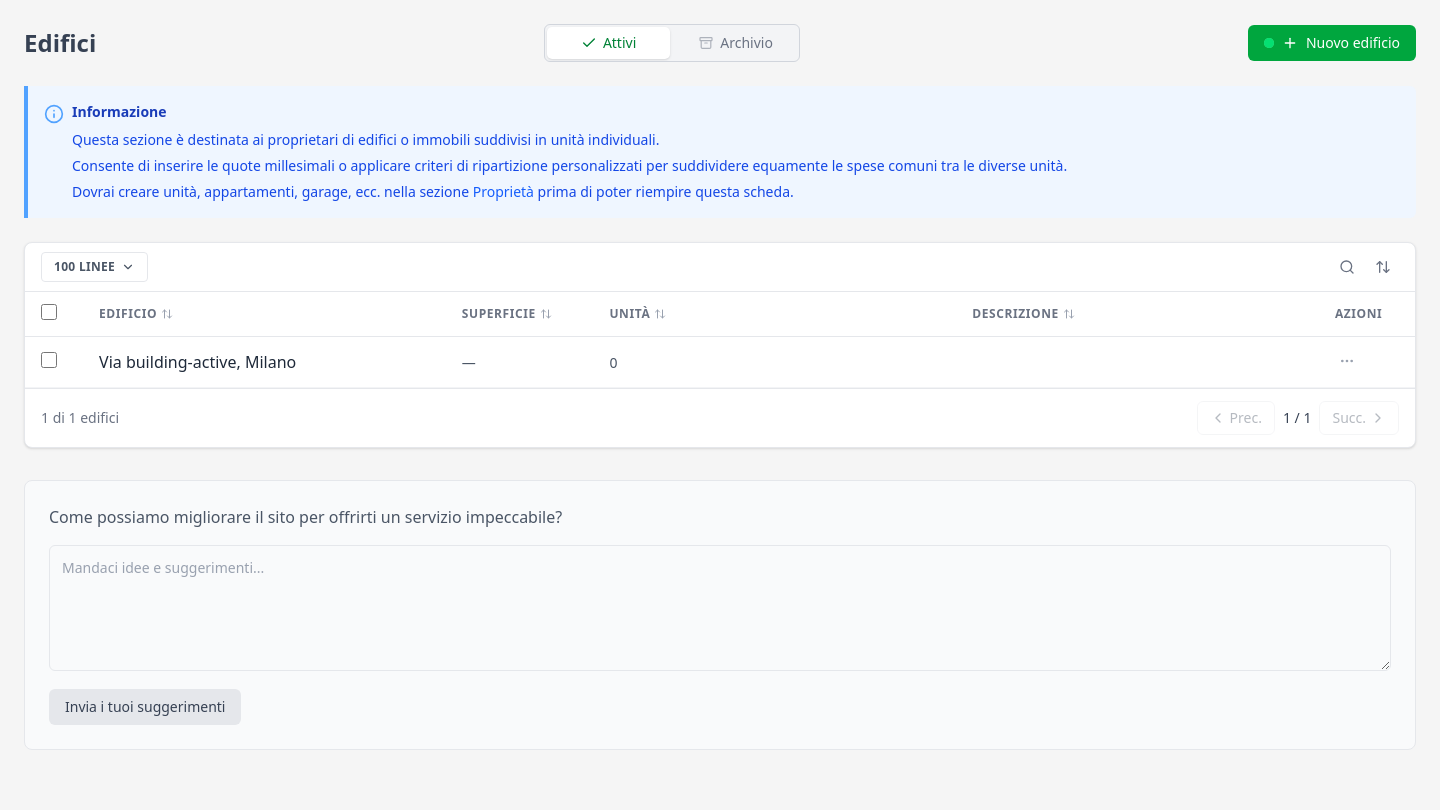
Scenario: A5.2 building lifecycle actions › A5.2-01 cancels and then confirms row archive through the real subscription
The image size is (1440, 810).
Step 1. Click the button named "Azioni edificio Via building-active, Milano" → [1347, 361], box [1335,349,1359,373]
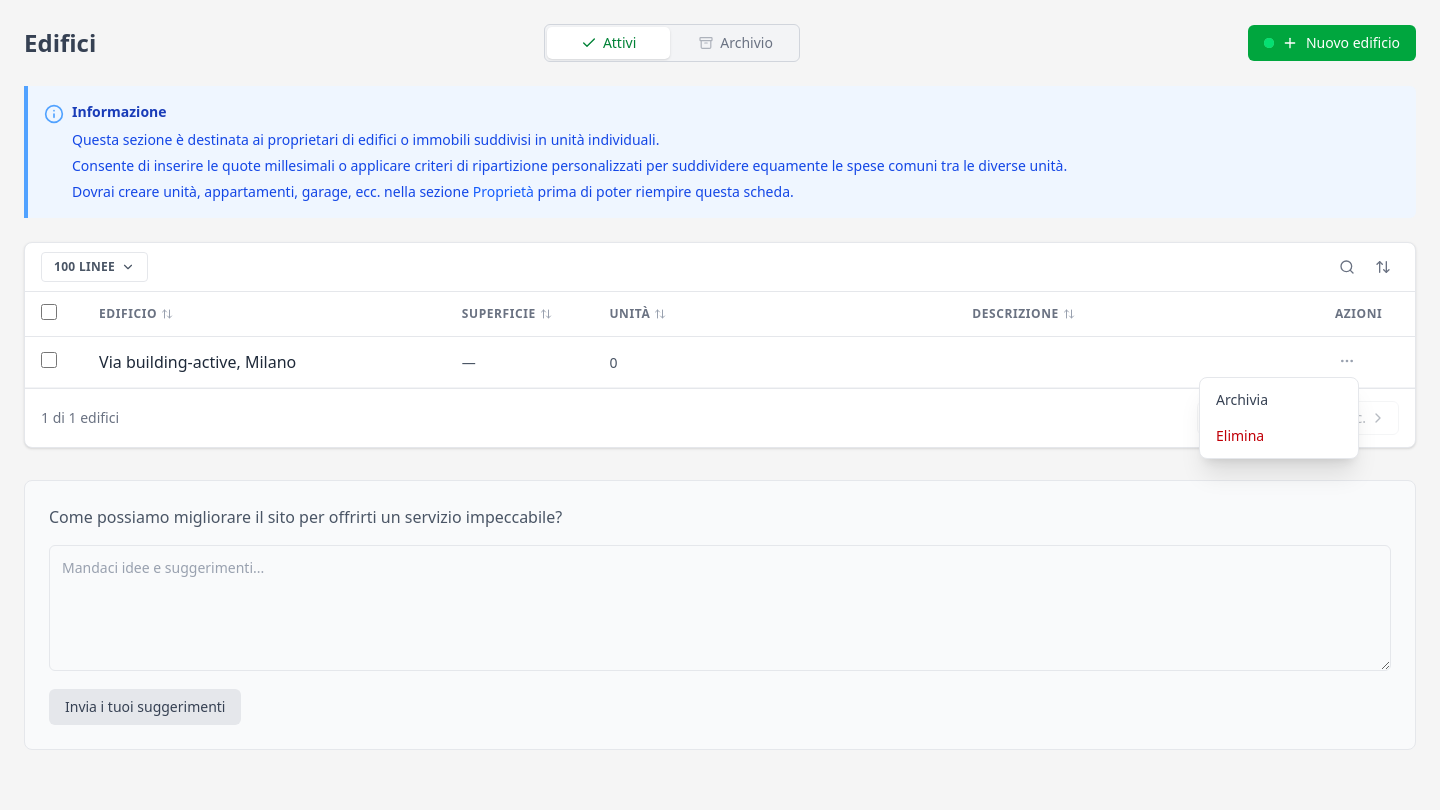
Check: the menu item "Archivia" is shown
Check: the menu item "Elimina" is shown, box [1200,418,1358,454]
Step 2. Click the menu item "Archivia" → [1279, 400], box [1200,382,1358,418]
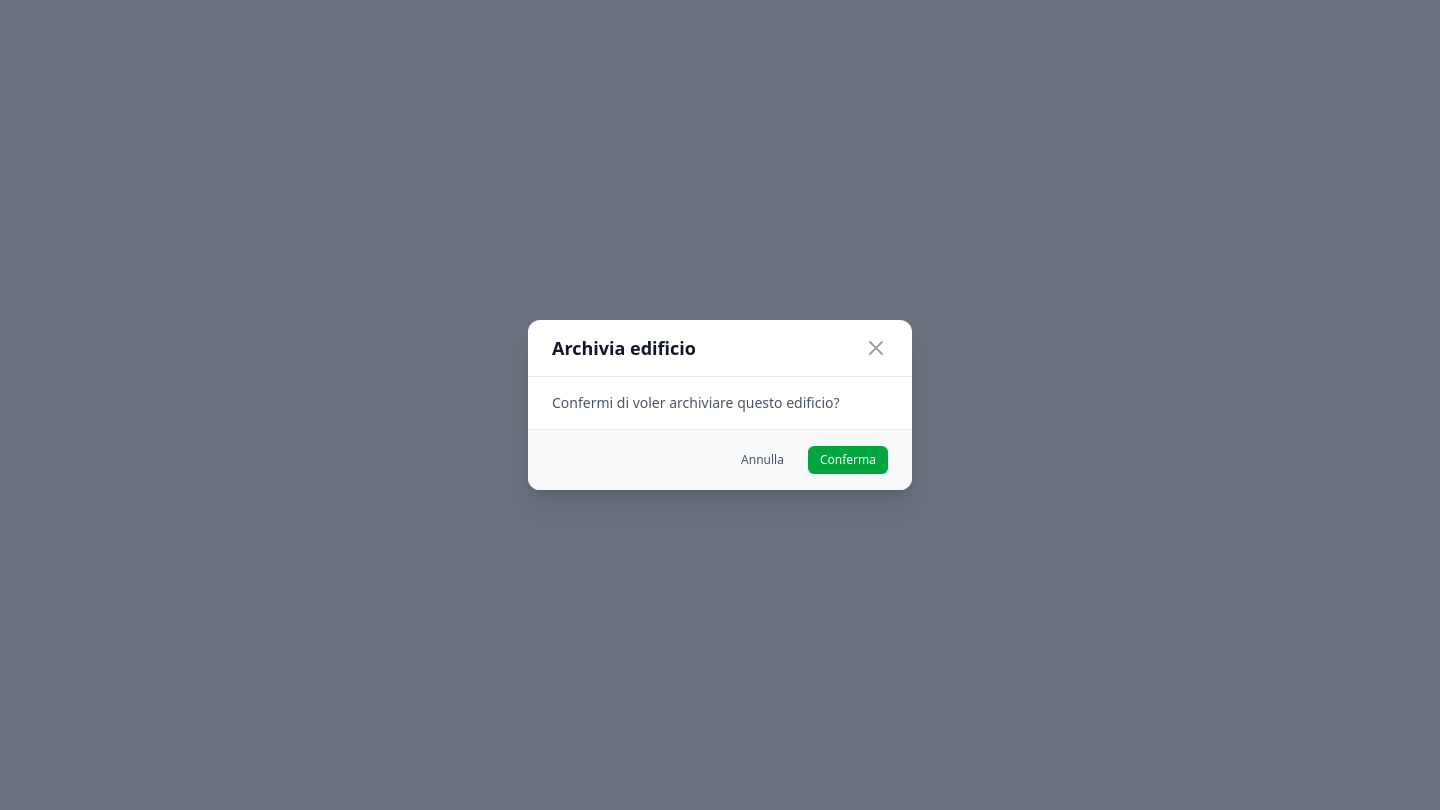
Check: the heading "Archivia edificio" is shown, box [552,336,696,360]
Step 3. Click the button "Annulla" → [762, 460], box [729,446,796,474]
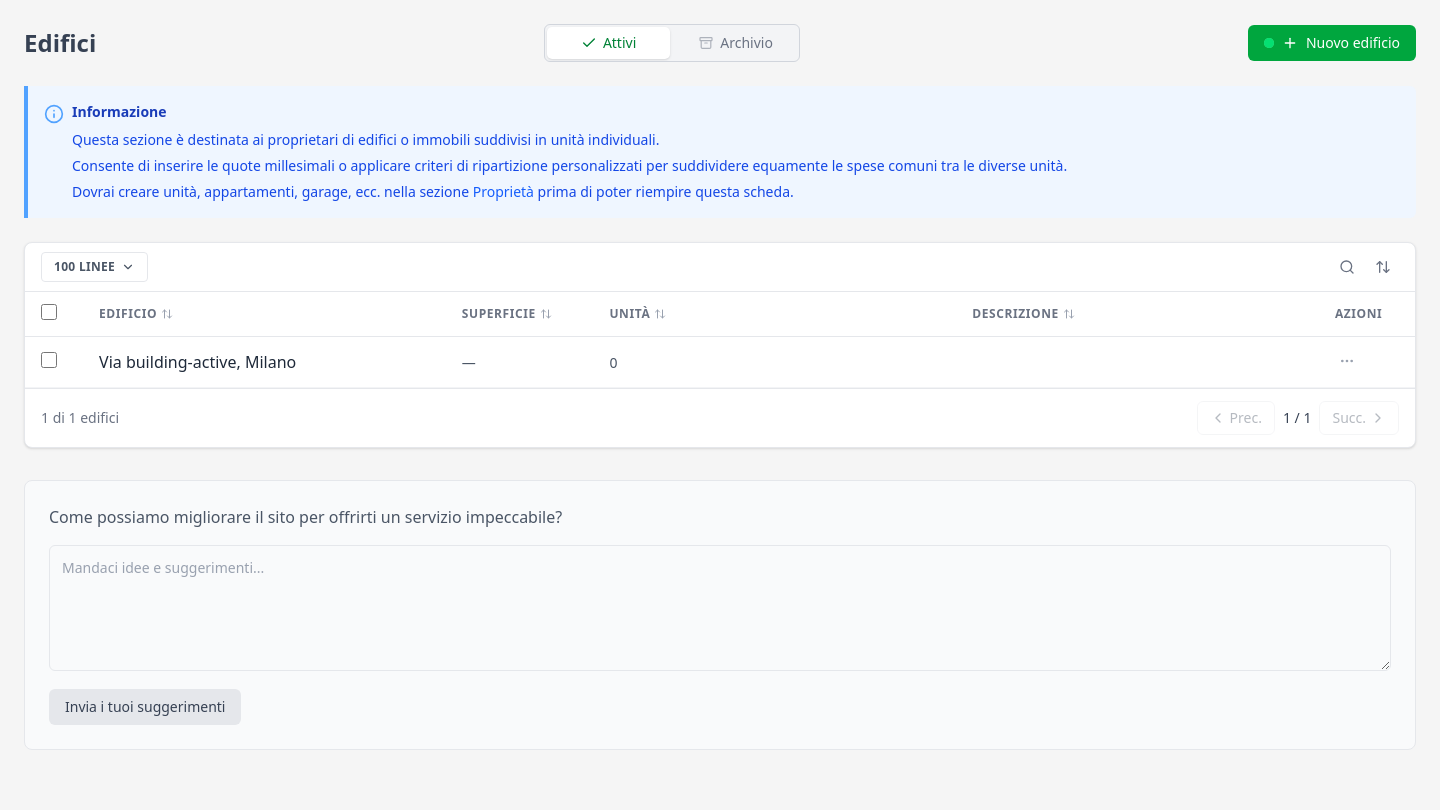
Step 4. Click the button named "Azioni edificio Via building-active, Milano" → [1347, 361], box [1335,349,1359,373]
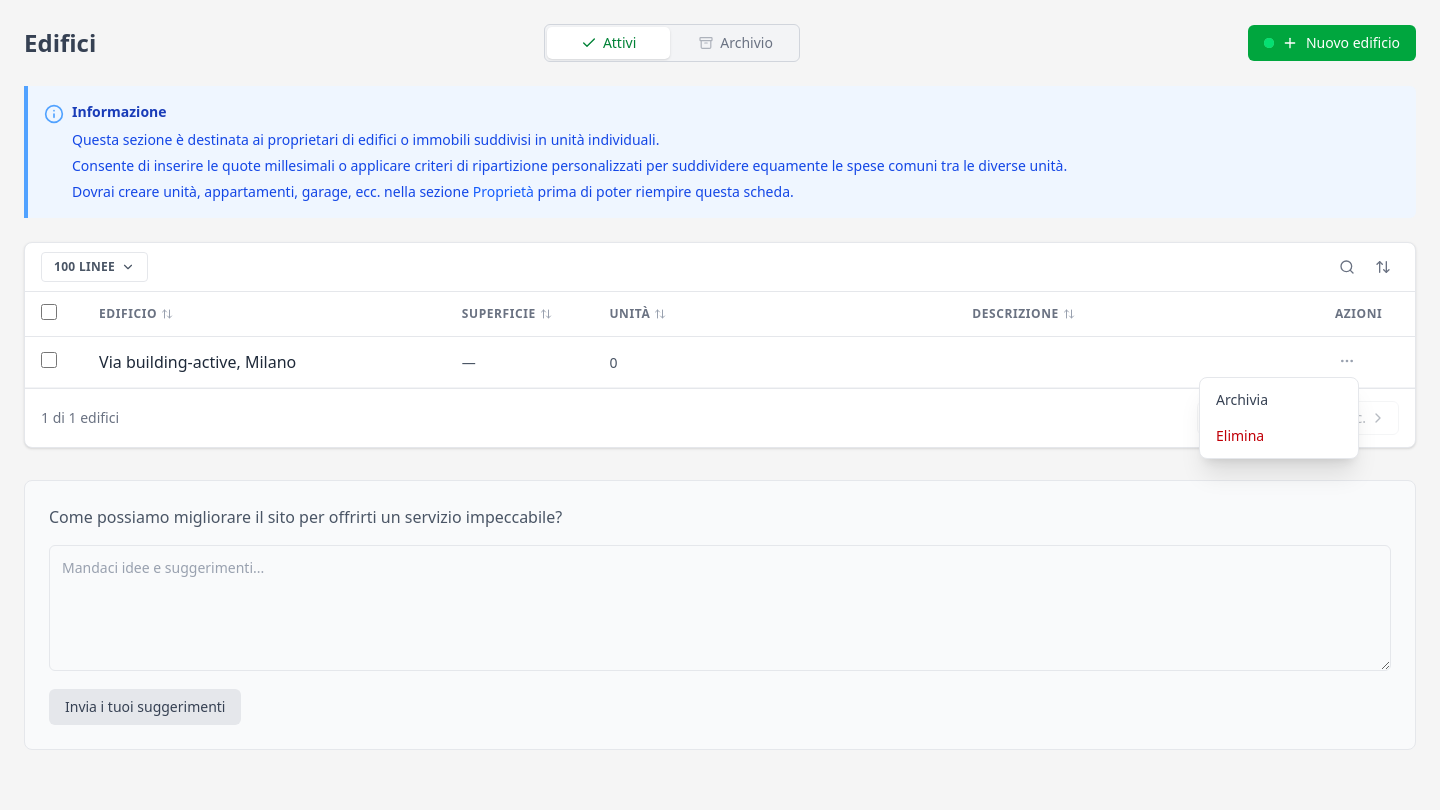
Step 5. Click the menu item "Archivia" → [1279, 400], box [1200,382,1358,418]
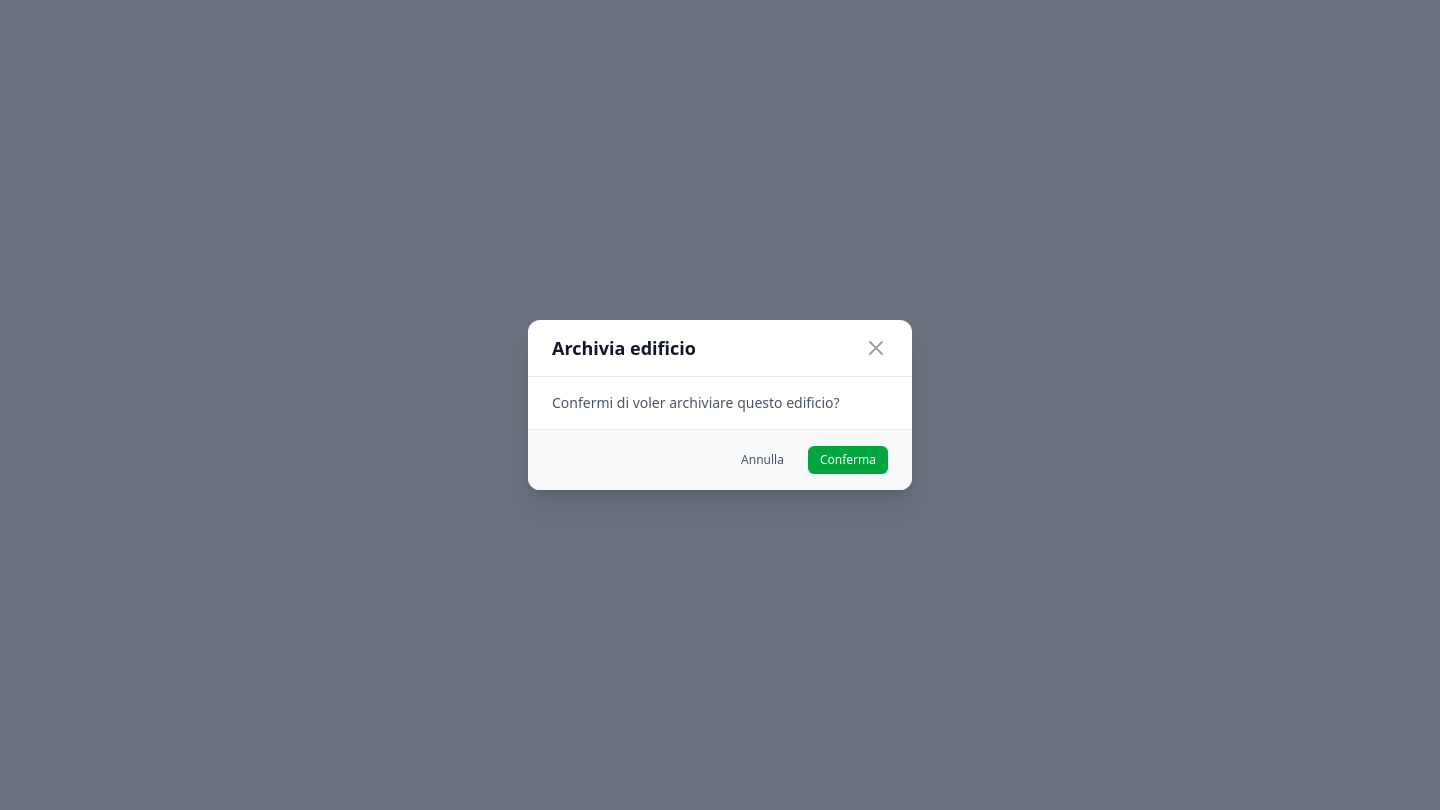
Step 6. Click the button "Conferma" → [848, 460], box [808,446,888,474]
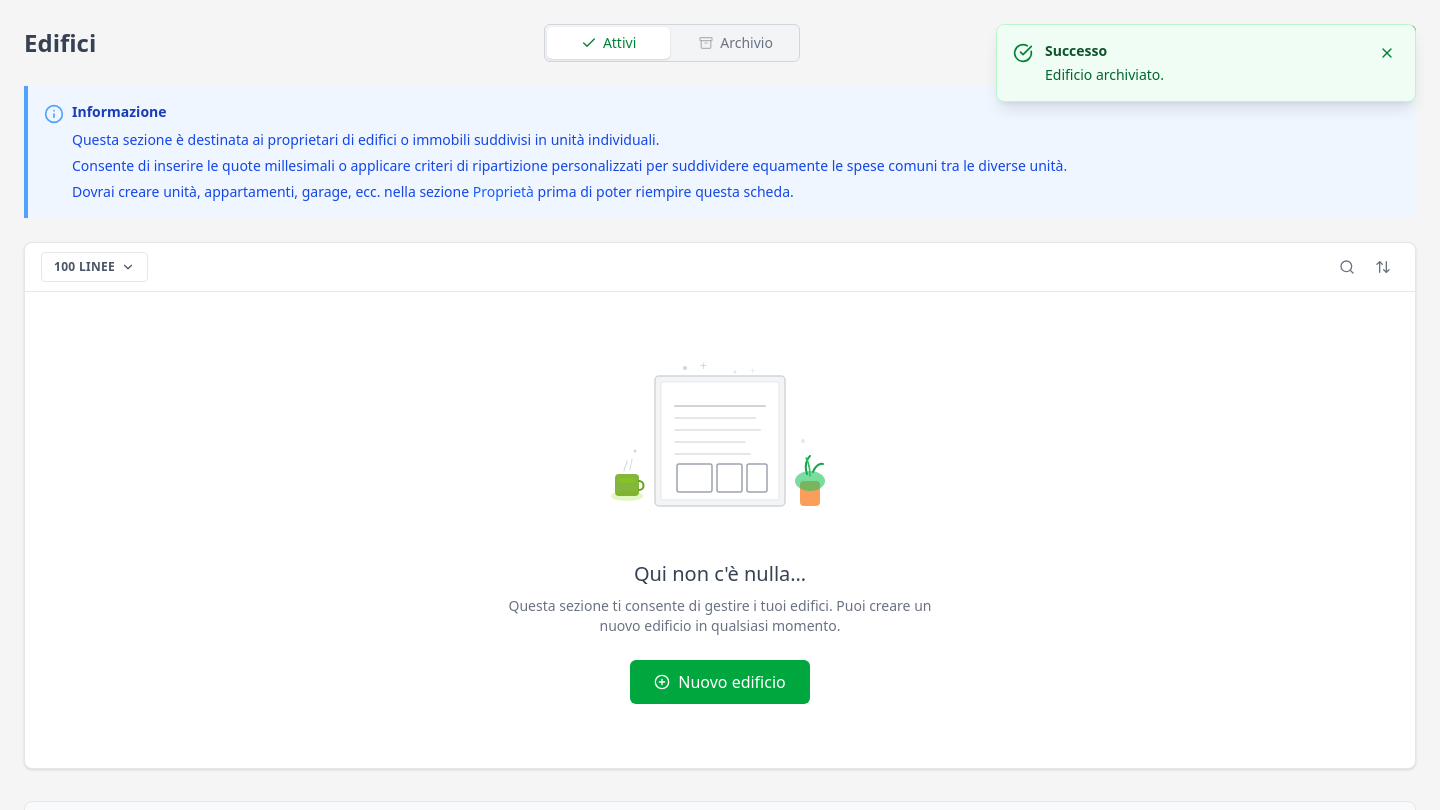
Check: the message reads "Successo Edificio archiviato.", box [996,24,1416,102]
